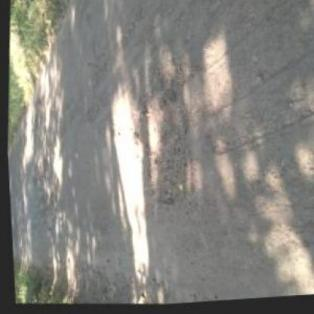Hueco: (122, 81, 197, 216)
